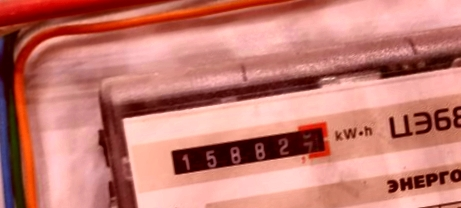1: (176, 149, 191, 169)
2: (274, 134, 288, 154)
5: (201, 146, 216, 167)
7: (300, 137, 312, 153)
8: (250, 138, 265, 160), (226, 141, 240, 164)
screen: (159, 113, 339, 182)
